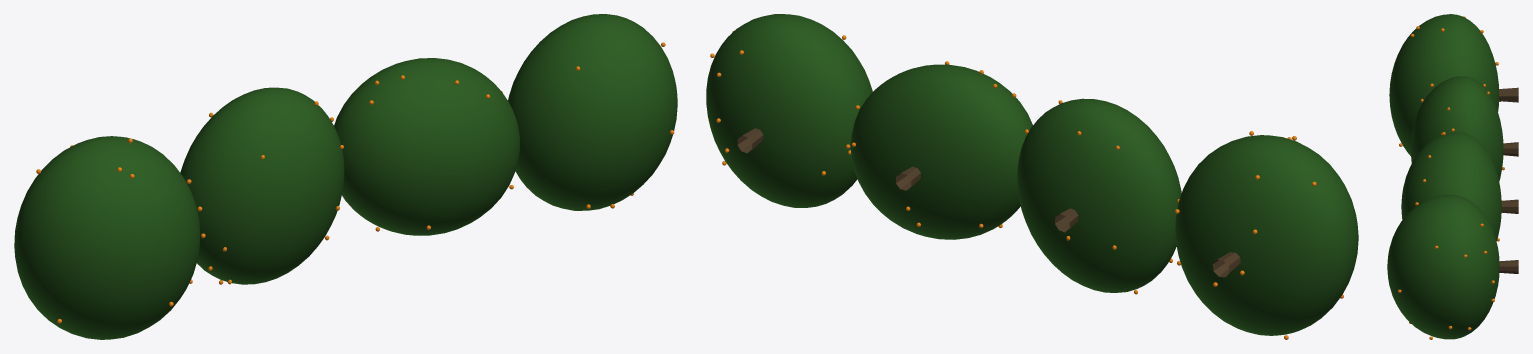
Rendered from citrus_plain4_e_fruit.obj.
3 renders of one model, left to right at view 1: azimuth 30°, elevation 25°; view 2: azimuth 150°, elevation 25°; view 3: azimuth 270°, elevation 25°, orthographic. The views are drawn at different scales.
Parts seen in each view (by area): view 1: canopy, fruit; view 2: canopy, trunk, fruit; view 3: canopy, trunk, fruit.
Part boxes in pixels (bbox=[...]): canopy: bbox=[14, 14, 677, 339]; fruit: bbox=[36, 42, 674, 323]; canopy: bbox=[706, 14, 1358, 335]; trunk: bbox=[737, 128, 1240, 277]; fruit: bbox=[710, 31, 1343, 339]; canopy: bbox=[1387, 14, 1503, 339]; trunk: bbox=[1499, 87, 1518, 273]; fruit: bbox=[1397, 16, 1504, 339].
Size of the model in its own units: 12.04 by 3.5 by 2.81.
